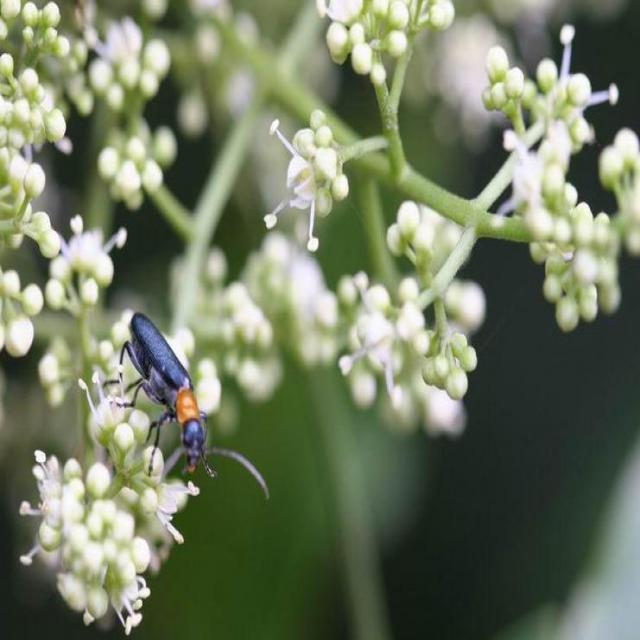BlisterBeetle-Adult-: (108, 307, 272, 502)
